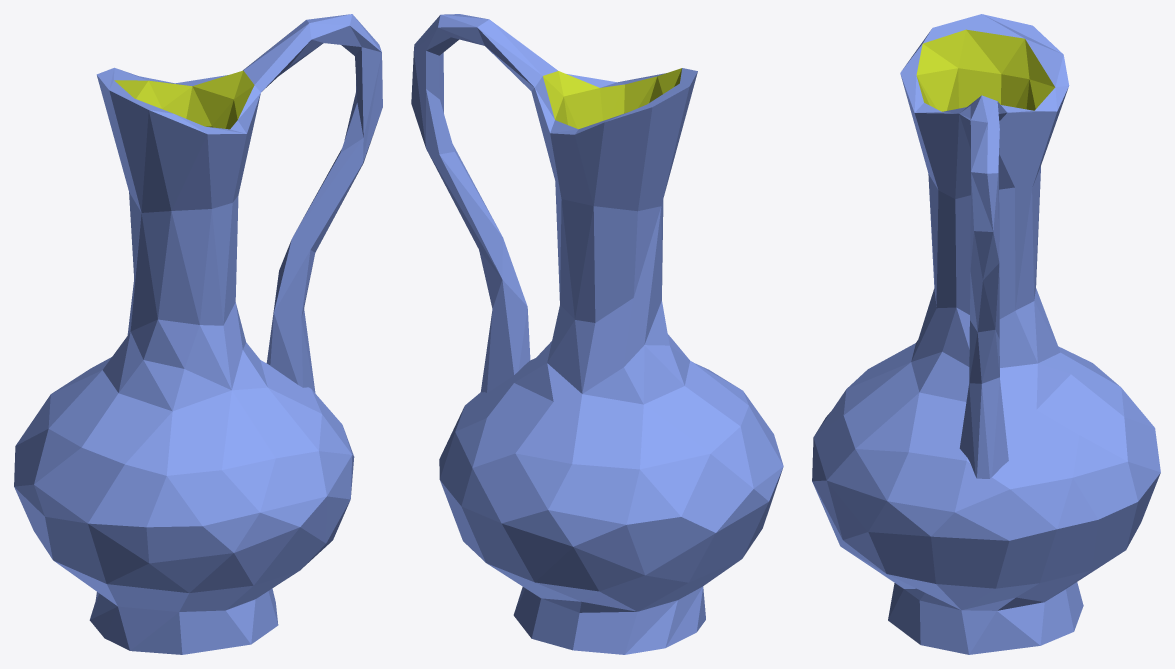
The model's file is Vase01.fbx.
3 renders of one model, left to right at view 1: azimuth 30°, elevation 25°; view 2: azimuth 150°, elevation 25°; view 3: azimuth 270°, elevation 25°, orthographic. The views are drawn at different scales.
Visible parts, largest first — view 1: Vase01LowPoly; view 2: Vase01LowPoly; view 3: Vase01LowPoly.
Boxes of the visible parts, bbox=[...] form: Vase01LowPoly: bbox=[14, 14, 382, 654]; Vase01LowPoly: bbox=[411, 14, 783, 654]; Vase01LowPoly: bbox=[812, 14, 1160, 654].
Bounding box in the file's own units: 10.75 × 16.86 × 9.18.
